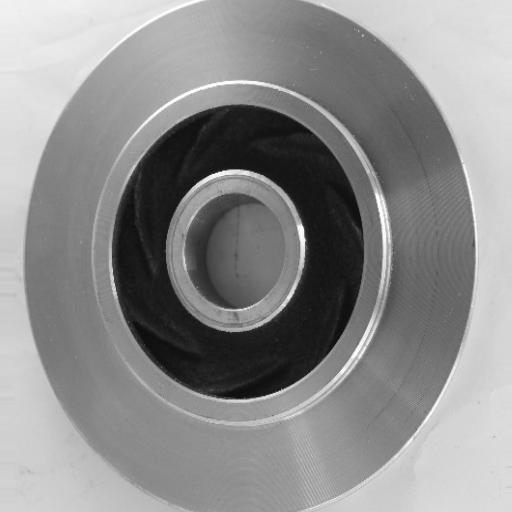polished_casting: (24, 0, 477, 512)
